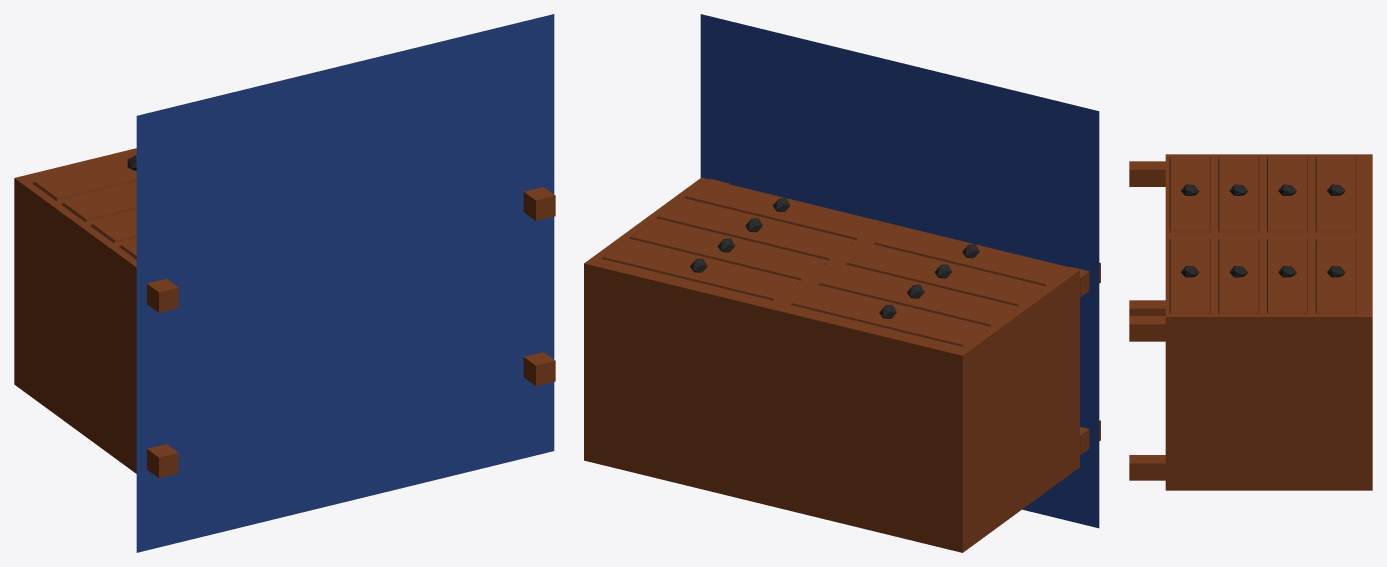
File: UtilityRoom_Cabinet.fbx
The picture shows the model from 3 angles, left to right: view 1: azimuth 30°, elevation 25°; view 2: azimuth 150°, elevation 25°; view 3: azimuth 270°, elevation 25°; orthographic projection. The views are drawn at different scales.
Parts seen in each view (by area): view 1: Plane.276, LowCabinet; view 2: LowCabinet, Plane.276; view 3: LowCabinet.
Part boxes in pixels (x1,y1,x2,y2): Plane.276: (136,14,554,552); LowCabinet: (14,148,555,478); LowCabinet: (584,177,1100,552); Plane.276: (700,14,1099,528); LowCabinet: (1129,154,1372,490).
Bounding box in the file's own units: 2 × 2 × 1.2.
